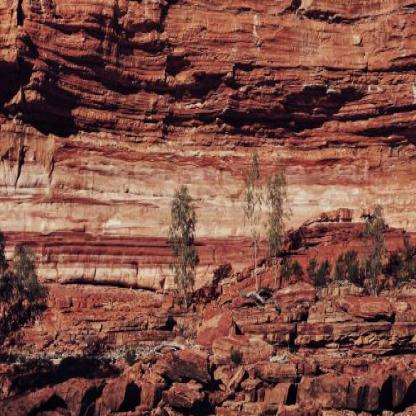Sedimentary_Sandstone: (270, 320, 415, 414), (155, 25, 297, 92), (141, 340, 237, 415), (0, 351, 104, 415), (0, 0, 56, 101)
